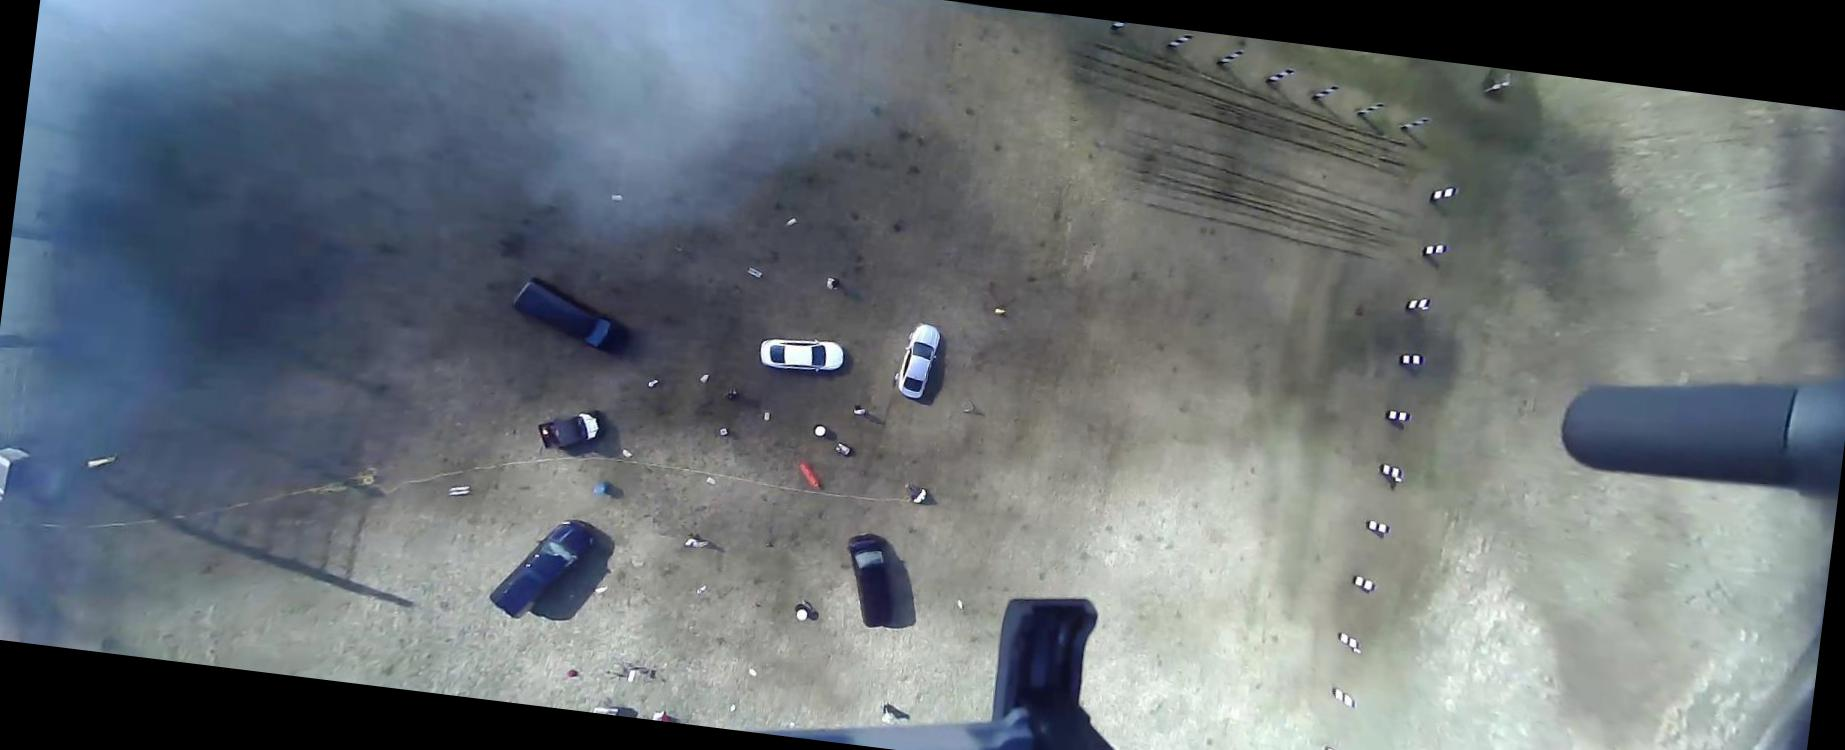vehicle: (486, 511, 598, 628), (506, 274, 632, 358), (836, 530, 902, 630), (890, 318, 942, 400), (756, 331, 845, 376), (533, 402, 605, 456)
